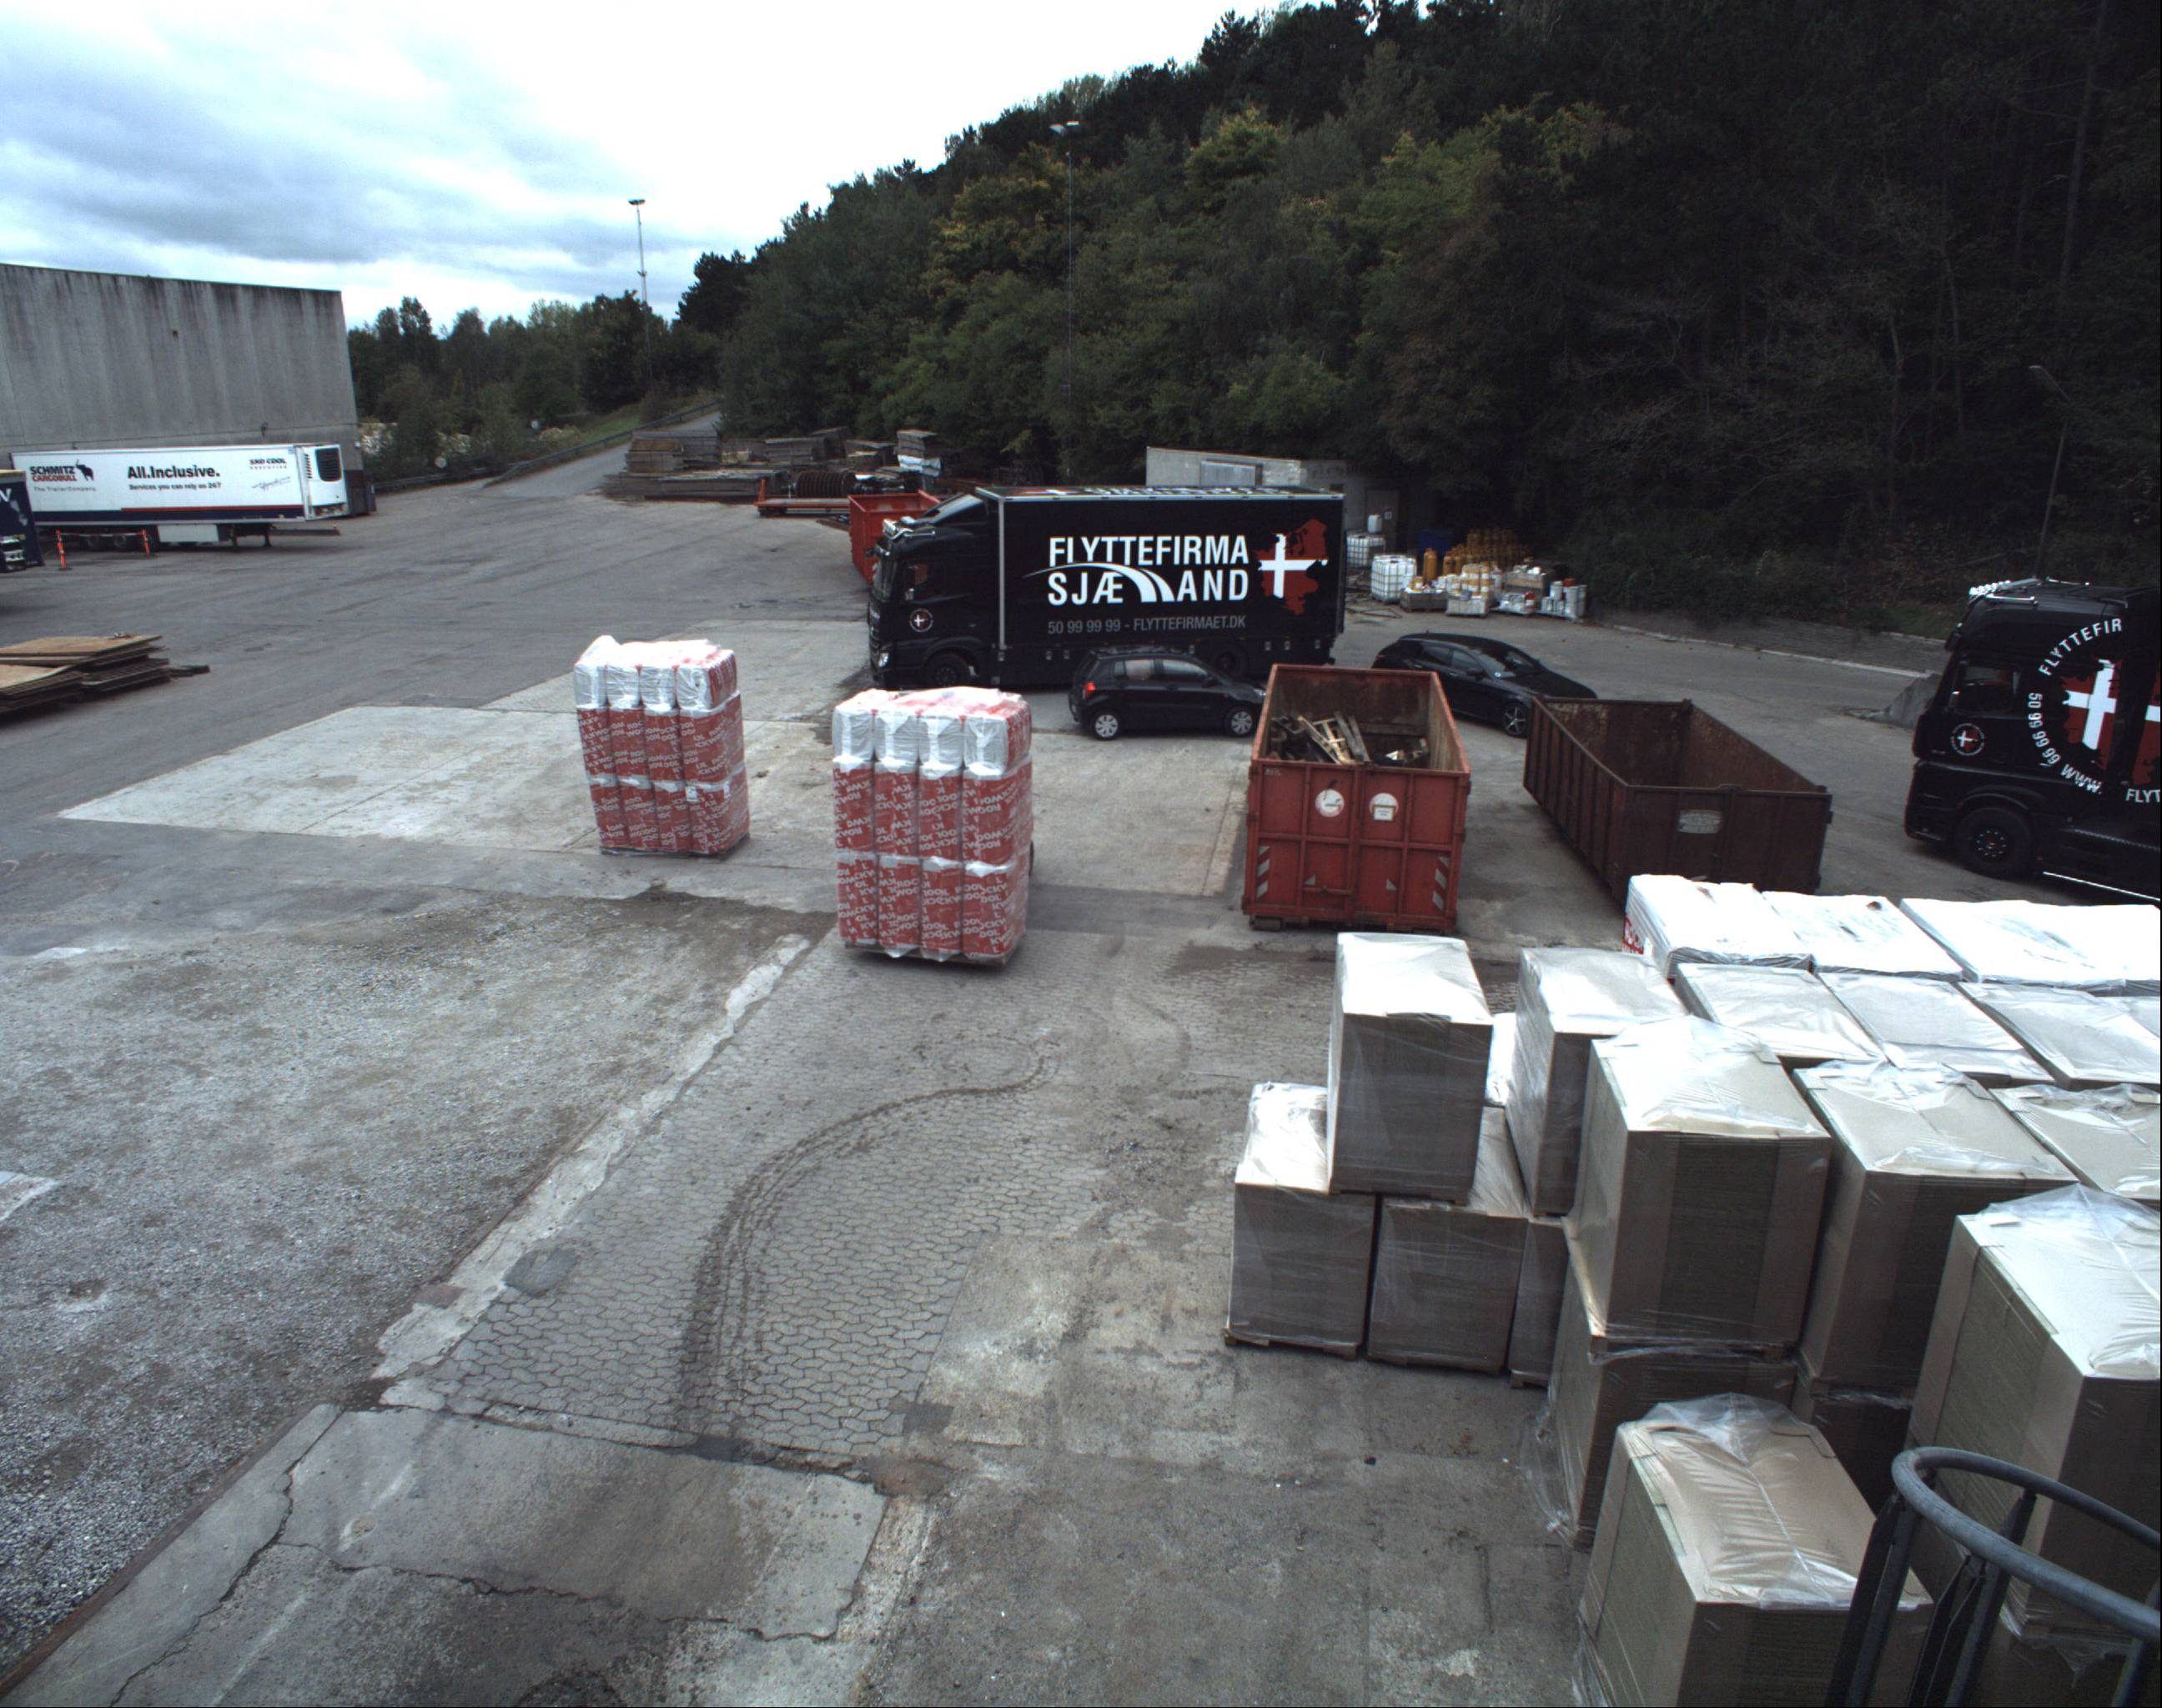rockwool_batts: (821, 695, 1030, 955), (574, 635, 753, 858)
